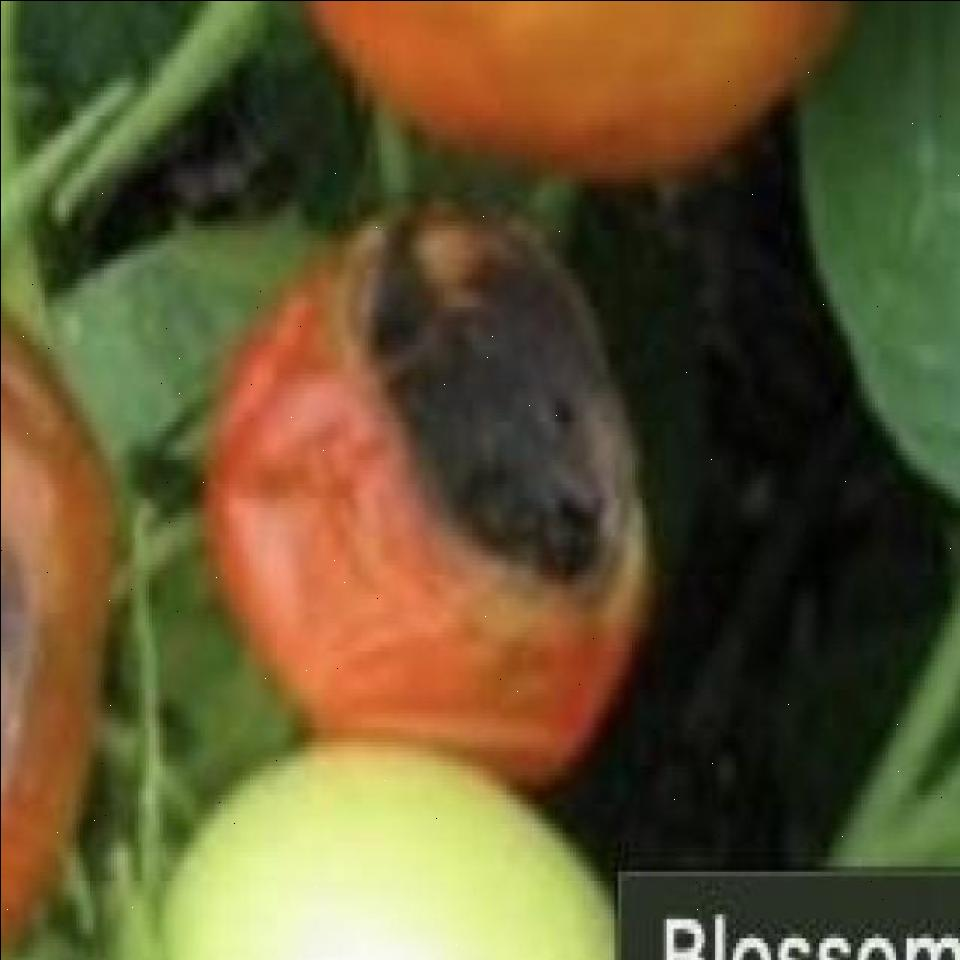Blossom_end_rot: (351, 194, 644, 624), (0, 518, 36, 758)
